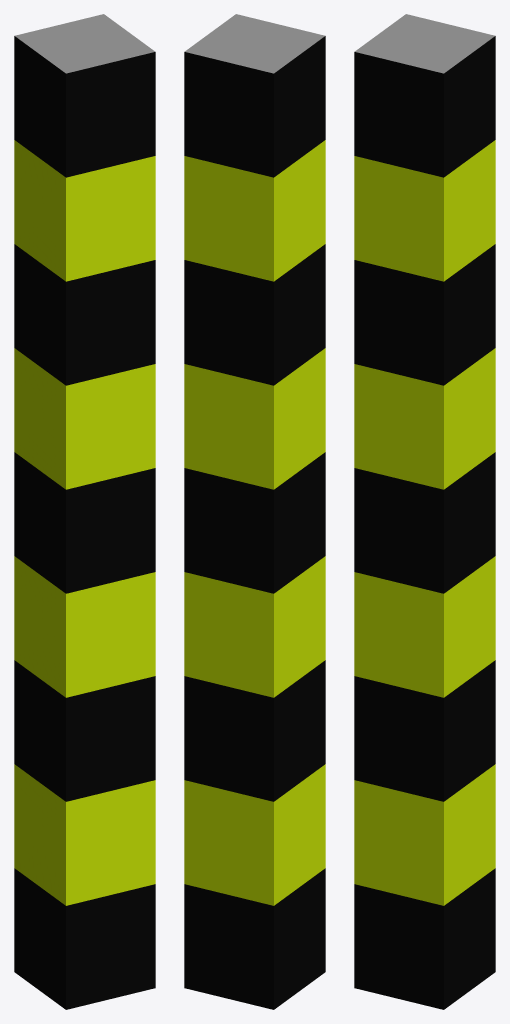
File: jiao.FBX
The picture shows the model from 3 angles, left to right: view 1: azimuth 30°, elevation 25°; view 2: azimuth 150°, elevation 25°; view 3: azimuth 330°, elevation 25°; orthographic projection.
Parts seen in each view (by area): view 1: Box001; view 2: Box001; view 3: Box001.
Boxes of the visible parts, x1,y1,x2,y2 form: Box001: (14, 14, 155, 1009); Box001: (184, 14, 325, 1009); Box001: (354, 14, 495, 1009).
Bounding box in the file's own units: 15 × 150 × 15.
